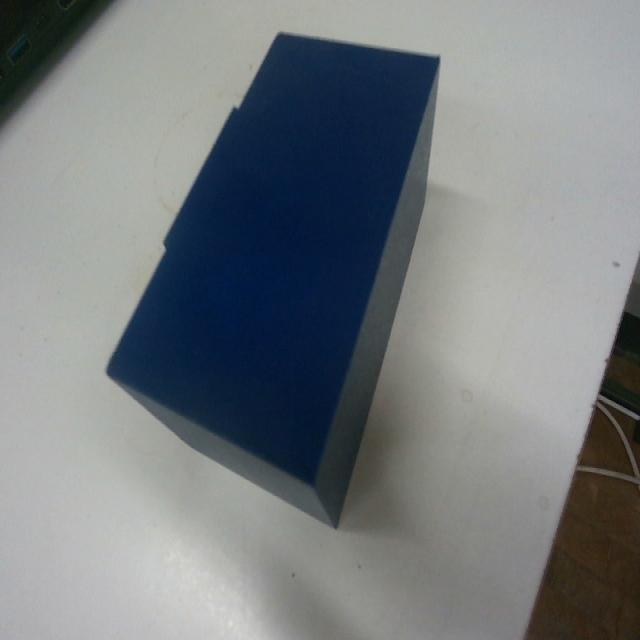Blue Cuboid: (104, 28, 441, 529)
